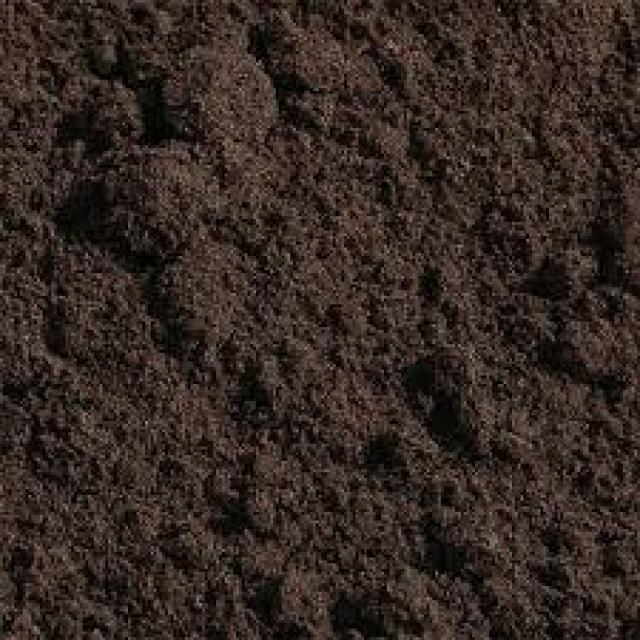Black Soil: (59, 36, 567, 604)
